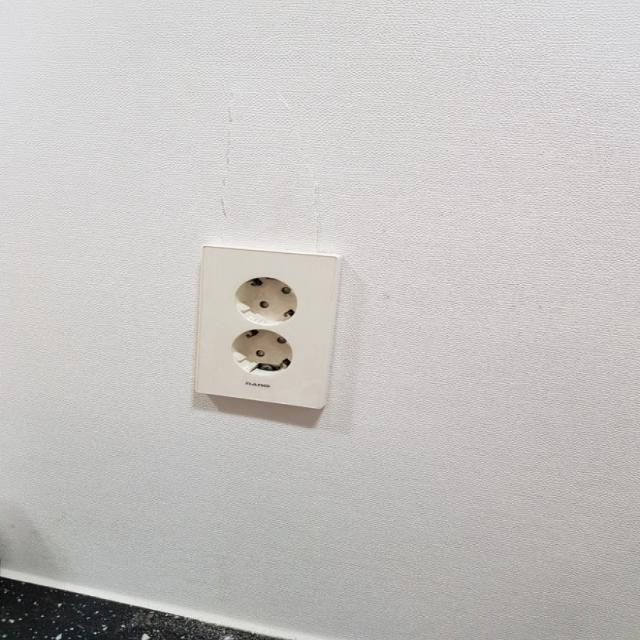typeb: (170, 190, 375, 479)
